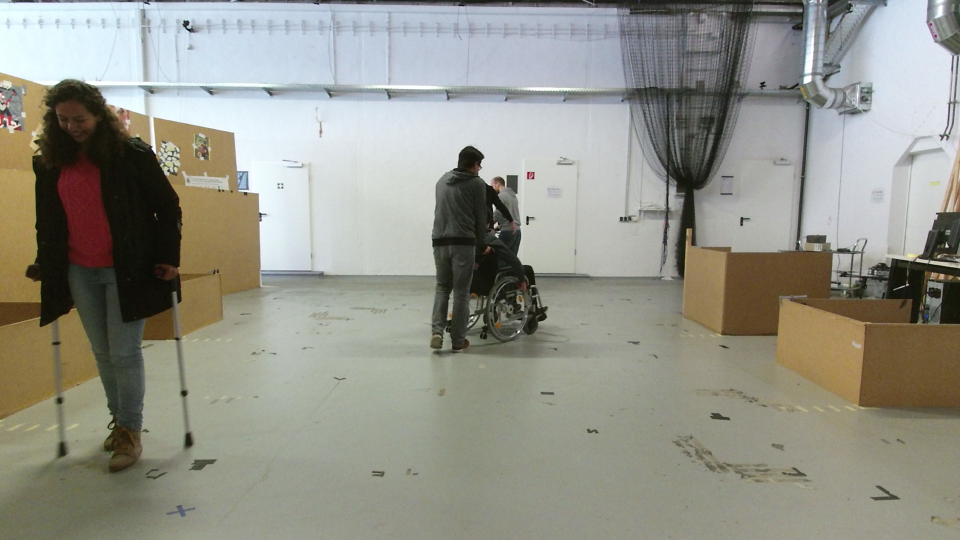crutches: (7, 73, 205, 483)
